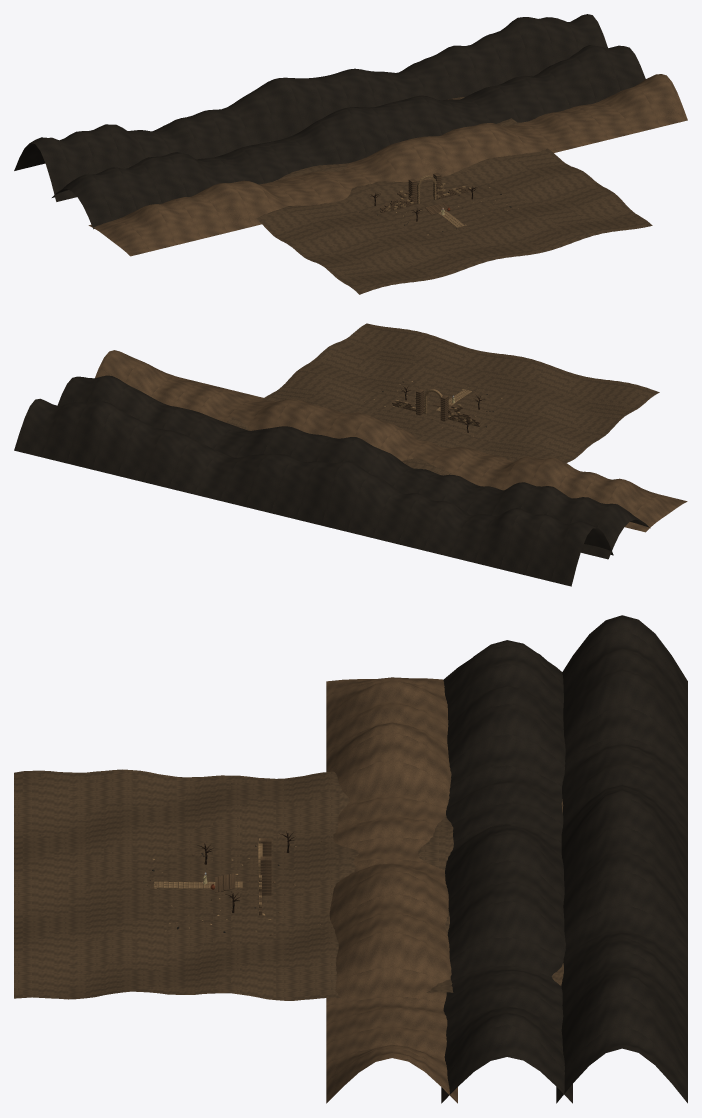
The model's file is chapter-3.glb.
3 renders of one model, top to bottom at view 1: azimuth 30°, elevation 25°; view 2: azimuth 150°, elevation 25°; view 3: azimuth 270°, elevation 25°, orthographic. The views are drawn at different scales.
Parts seen in each view (by area): view 1: Continuous weathered terrain 3, Eroded ridge band 2.003, Eroded ridge band 1.003, Eroded ridge band 0.003; view 2: Eroded ridge band 2.003, Continuous weathered terrain 3, Eroded ridge band 0.003, Eroded ridge band 1.003; view 3: Continuous weathered terrain 3, Eroded ridge band 2.003, Eroded ridge band 1.003, Eroded ridge band 0.003.
Boxes of the visible parts, x1,y1,x2,y2 form: Continuous weathered terrain 3: (256, 97, 652, 294); Eroded ridge band 2.003: (14, 14, 607, 201); Eroded ridge band 1.003: (52, 45, 645, 229); Eroded ridge band 0.003: (88, 74, 687, 256); Eroded ridge band 2.003: (14, 398, 613, 586); Continuous weathered terrain 3: (226, 323, 659, 475); Eroded ridge band 0.003: (95, 350, 687, 532); Eroded ridge band 1.003: (57, 375, 650, 559); Continuous weathered terrain 3: (14, 769, 563, 1000); Eroded ridge band 2.003: (556, 615, 687, 1103); Eroded ridge band 1.003: (441, 640, 572, 1103); Eroded ridge band 0.003: (326, 677, 457, 1103).
Bounding box in the file's own units: 182 × 15.62 × 123.
Materials: 11 (8 with a texture image).
